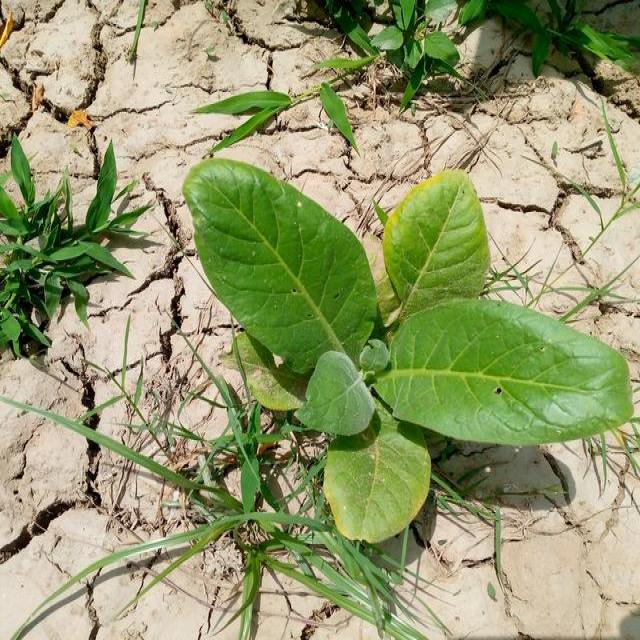crop: (178, 169, 628, 526)
